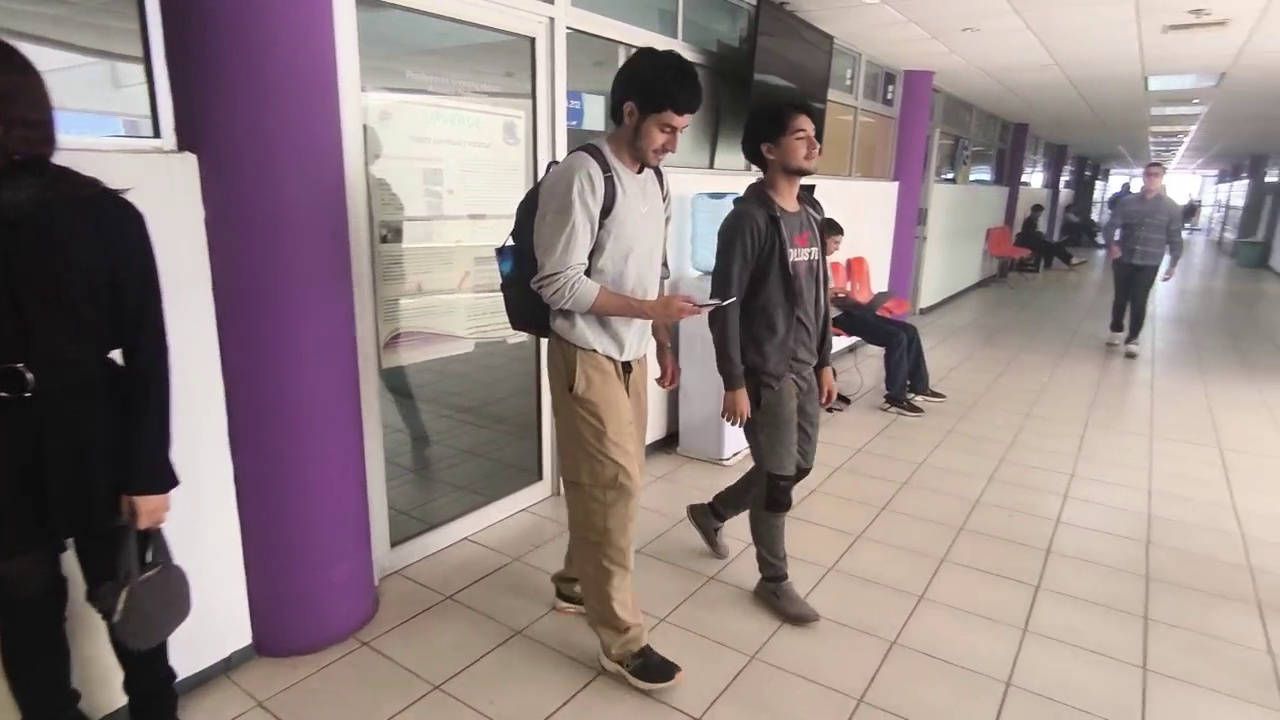mixto2: (689, 292, 739, 310)
